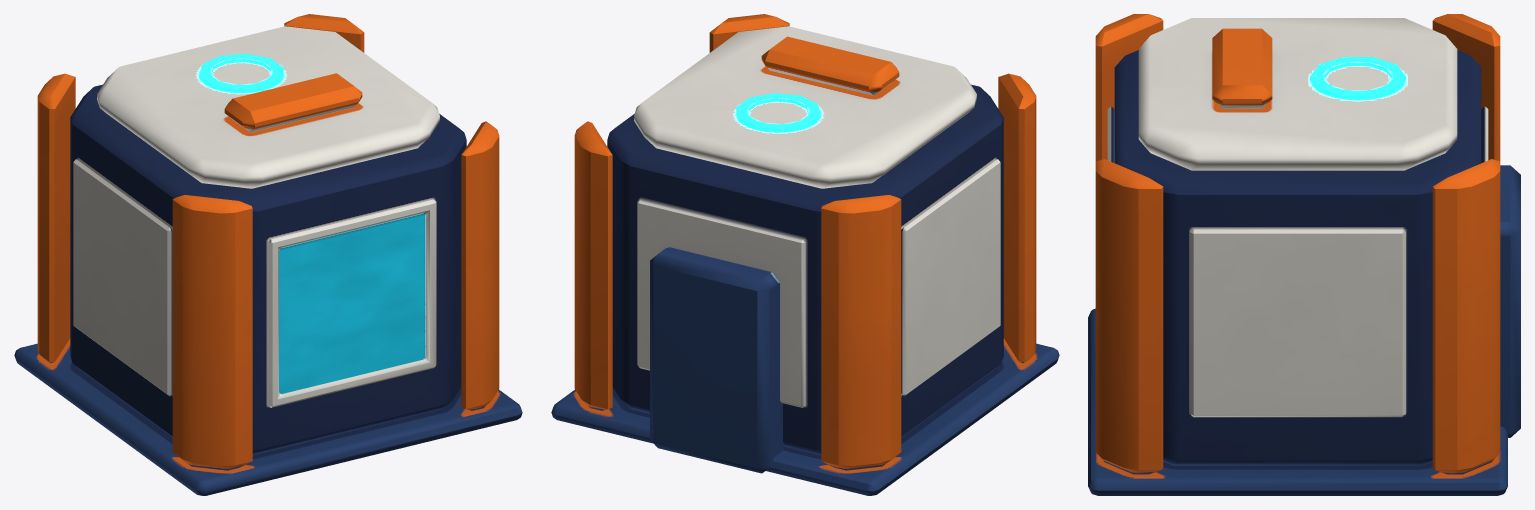
Rendered from R4X_Battery_LOD1.fbx.
The picture shows the model from 3 angles, left to right: view 1: azimuth 30°, elevation 25°; view 2: azimuth 150°, elevation 25°; view 3: azimuth 270°, elevation 25°; orthographic projection. The views are drawn at different scales.
Parts seen in each view (by area): view 1: R4X_Battery_LOD1; view 2: R4X_Battery_LOD1; view 3: R4X_Battery_LOD1.
Part boxes in pixels (<box>): R4X_Battery_LOD1: <box>14,14,522,495</box>; R4X_Battery_LOD1: <box>551,14,1059,495</box>; R4X_Battery_LOD1: <box>1088,14,1520,495</box>.
Size of the model in its own units: 0.49 by 0.456 by 0.505.
